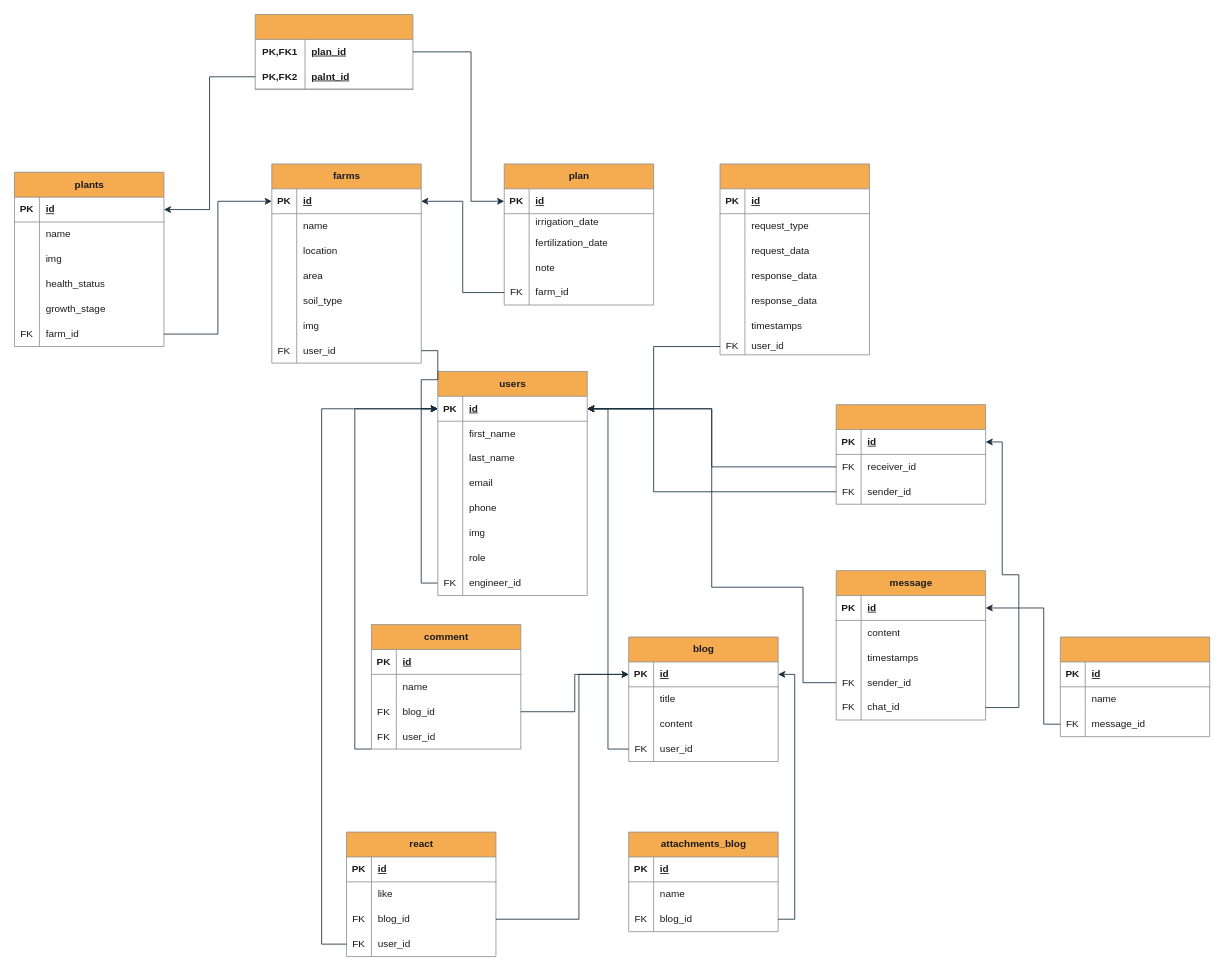
The diagram is 1224 pixels wide and 971 high, and some of its shapes have lost their labels. Each missing label, with the box of its shape:
ai_requests: (719, 163, 869, 355)
attachments_message: (1059, 636, 1210, 737)
chat: (835, 404, 986, 504)
plan_plants: (254, 14, 413, 89)
